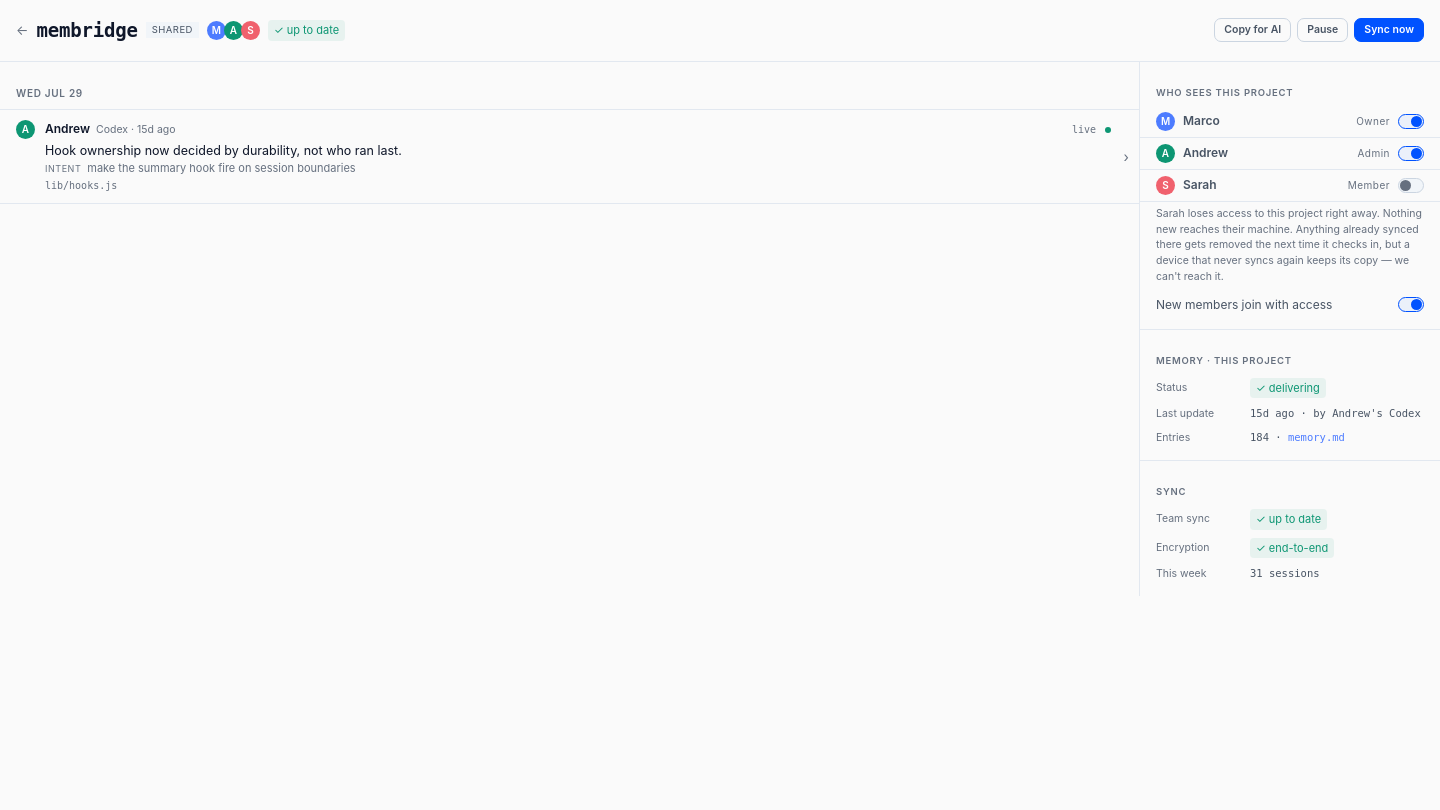
Test case: ProjectPage › surfaces a failed access-default write instead of looking like nothing happened
The width and height of the screenshot is (1440, 810).
Click the switch named "new members join with access" at (1411, 304), box [1398,297,1424,312]
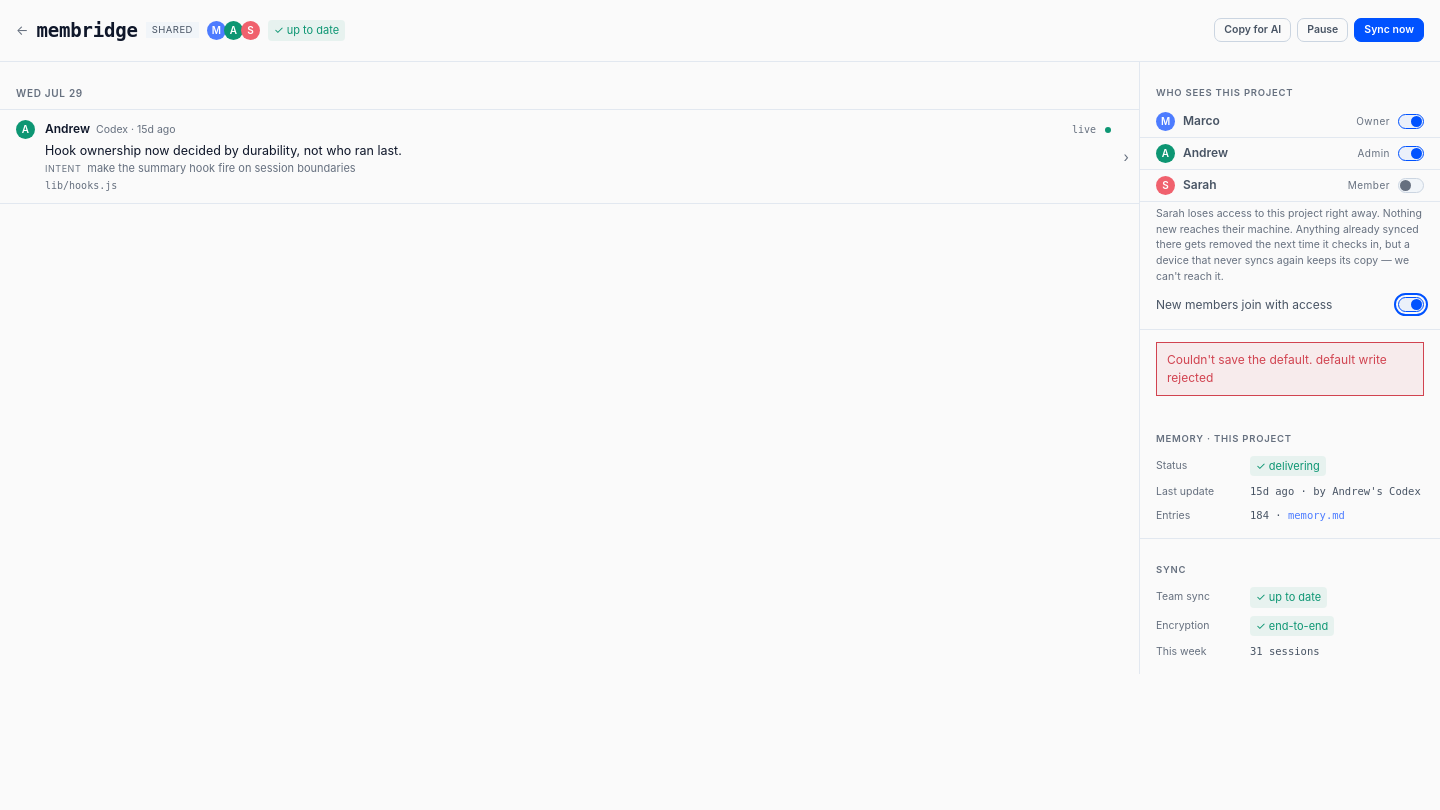
Check: the text "Couldn't save the default. default write rejected" is shown, box [1156,342,1424,396]
